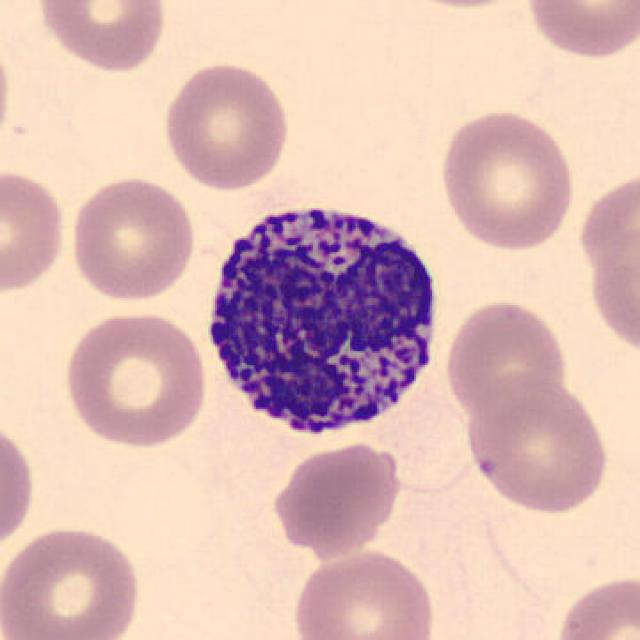Basophil: (194, 184, 450, 452)
RBC: (462, 372, 614, 517), (59, 306, 210, 449), (436, 106, 578, 254), (158, 58, 294, 192), (66, 171, 199, 305), (0, 520, 146, 640), (268, 437, 406, 557), (441, 296, 571, 423), (288, 545, 439, 640), (572, 164, 640, 365), (34, 0, 170, 74), (0, 164, 69, 296), (521, 0, 640, 62), (550, 571, 638, 640), (0, 414, 39, 559), (0, 27, 14, 158), (386, 0, 537, 12)
